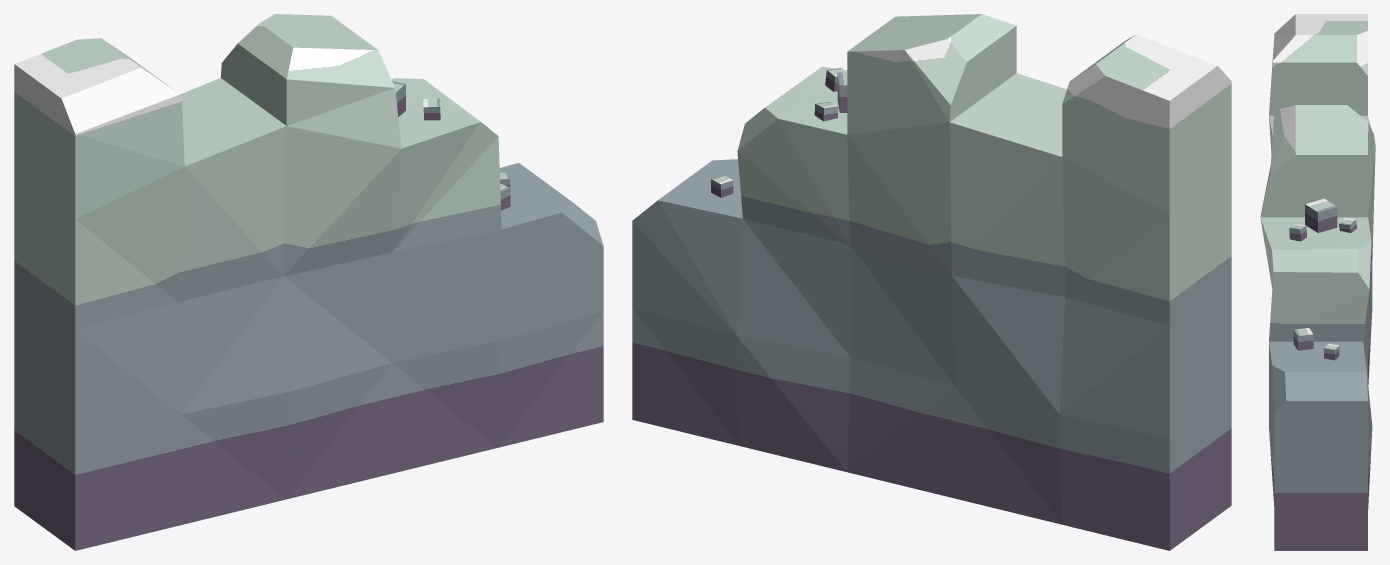
Rendered from Wall 4.001.fbx.
3 renders of one model, left to right at view 1: azimuth 30°, elevation 25°; view 2: azimuth 150°, elevation 25°; view 3: azimuth 270°, elevation 25°, orthographic. The views are drawn at different scales.
Parts seen in each view (by area): view 1: Wall 4.001; view 2: Wall 4.001; view 3: Wall 4.001.
Boxes of the visible parts, x1=… form: Wall 4.001: x1=14, y1=14, x2=603, y2=550; Wall 4.001: x1=632, y1=14, x2=1231, y2=550; Wall 4.001: x1=1260, y1=14, x2=1375, y2=550.
Bounding box in the file's own units: 500 × 410 × 123.
